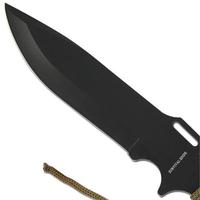knife: (3, 2, 192, 185)
